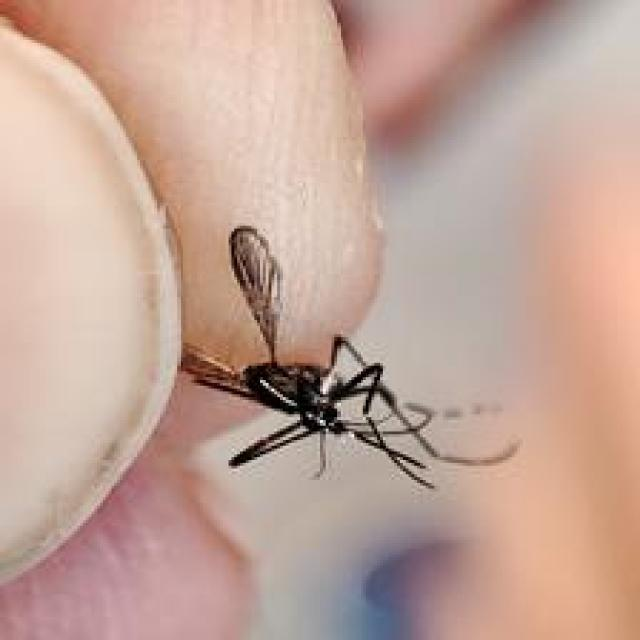Aedes albopictus: (178, 223, 522, 491)
